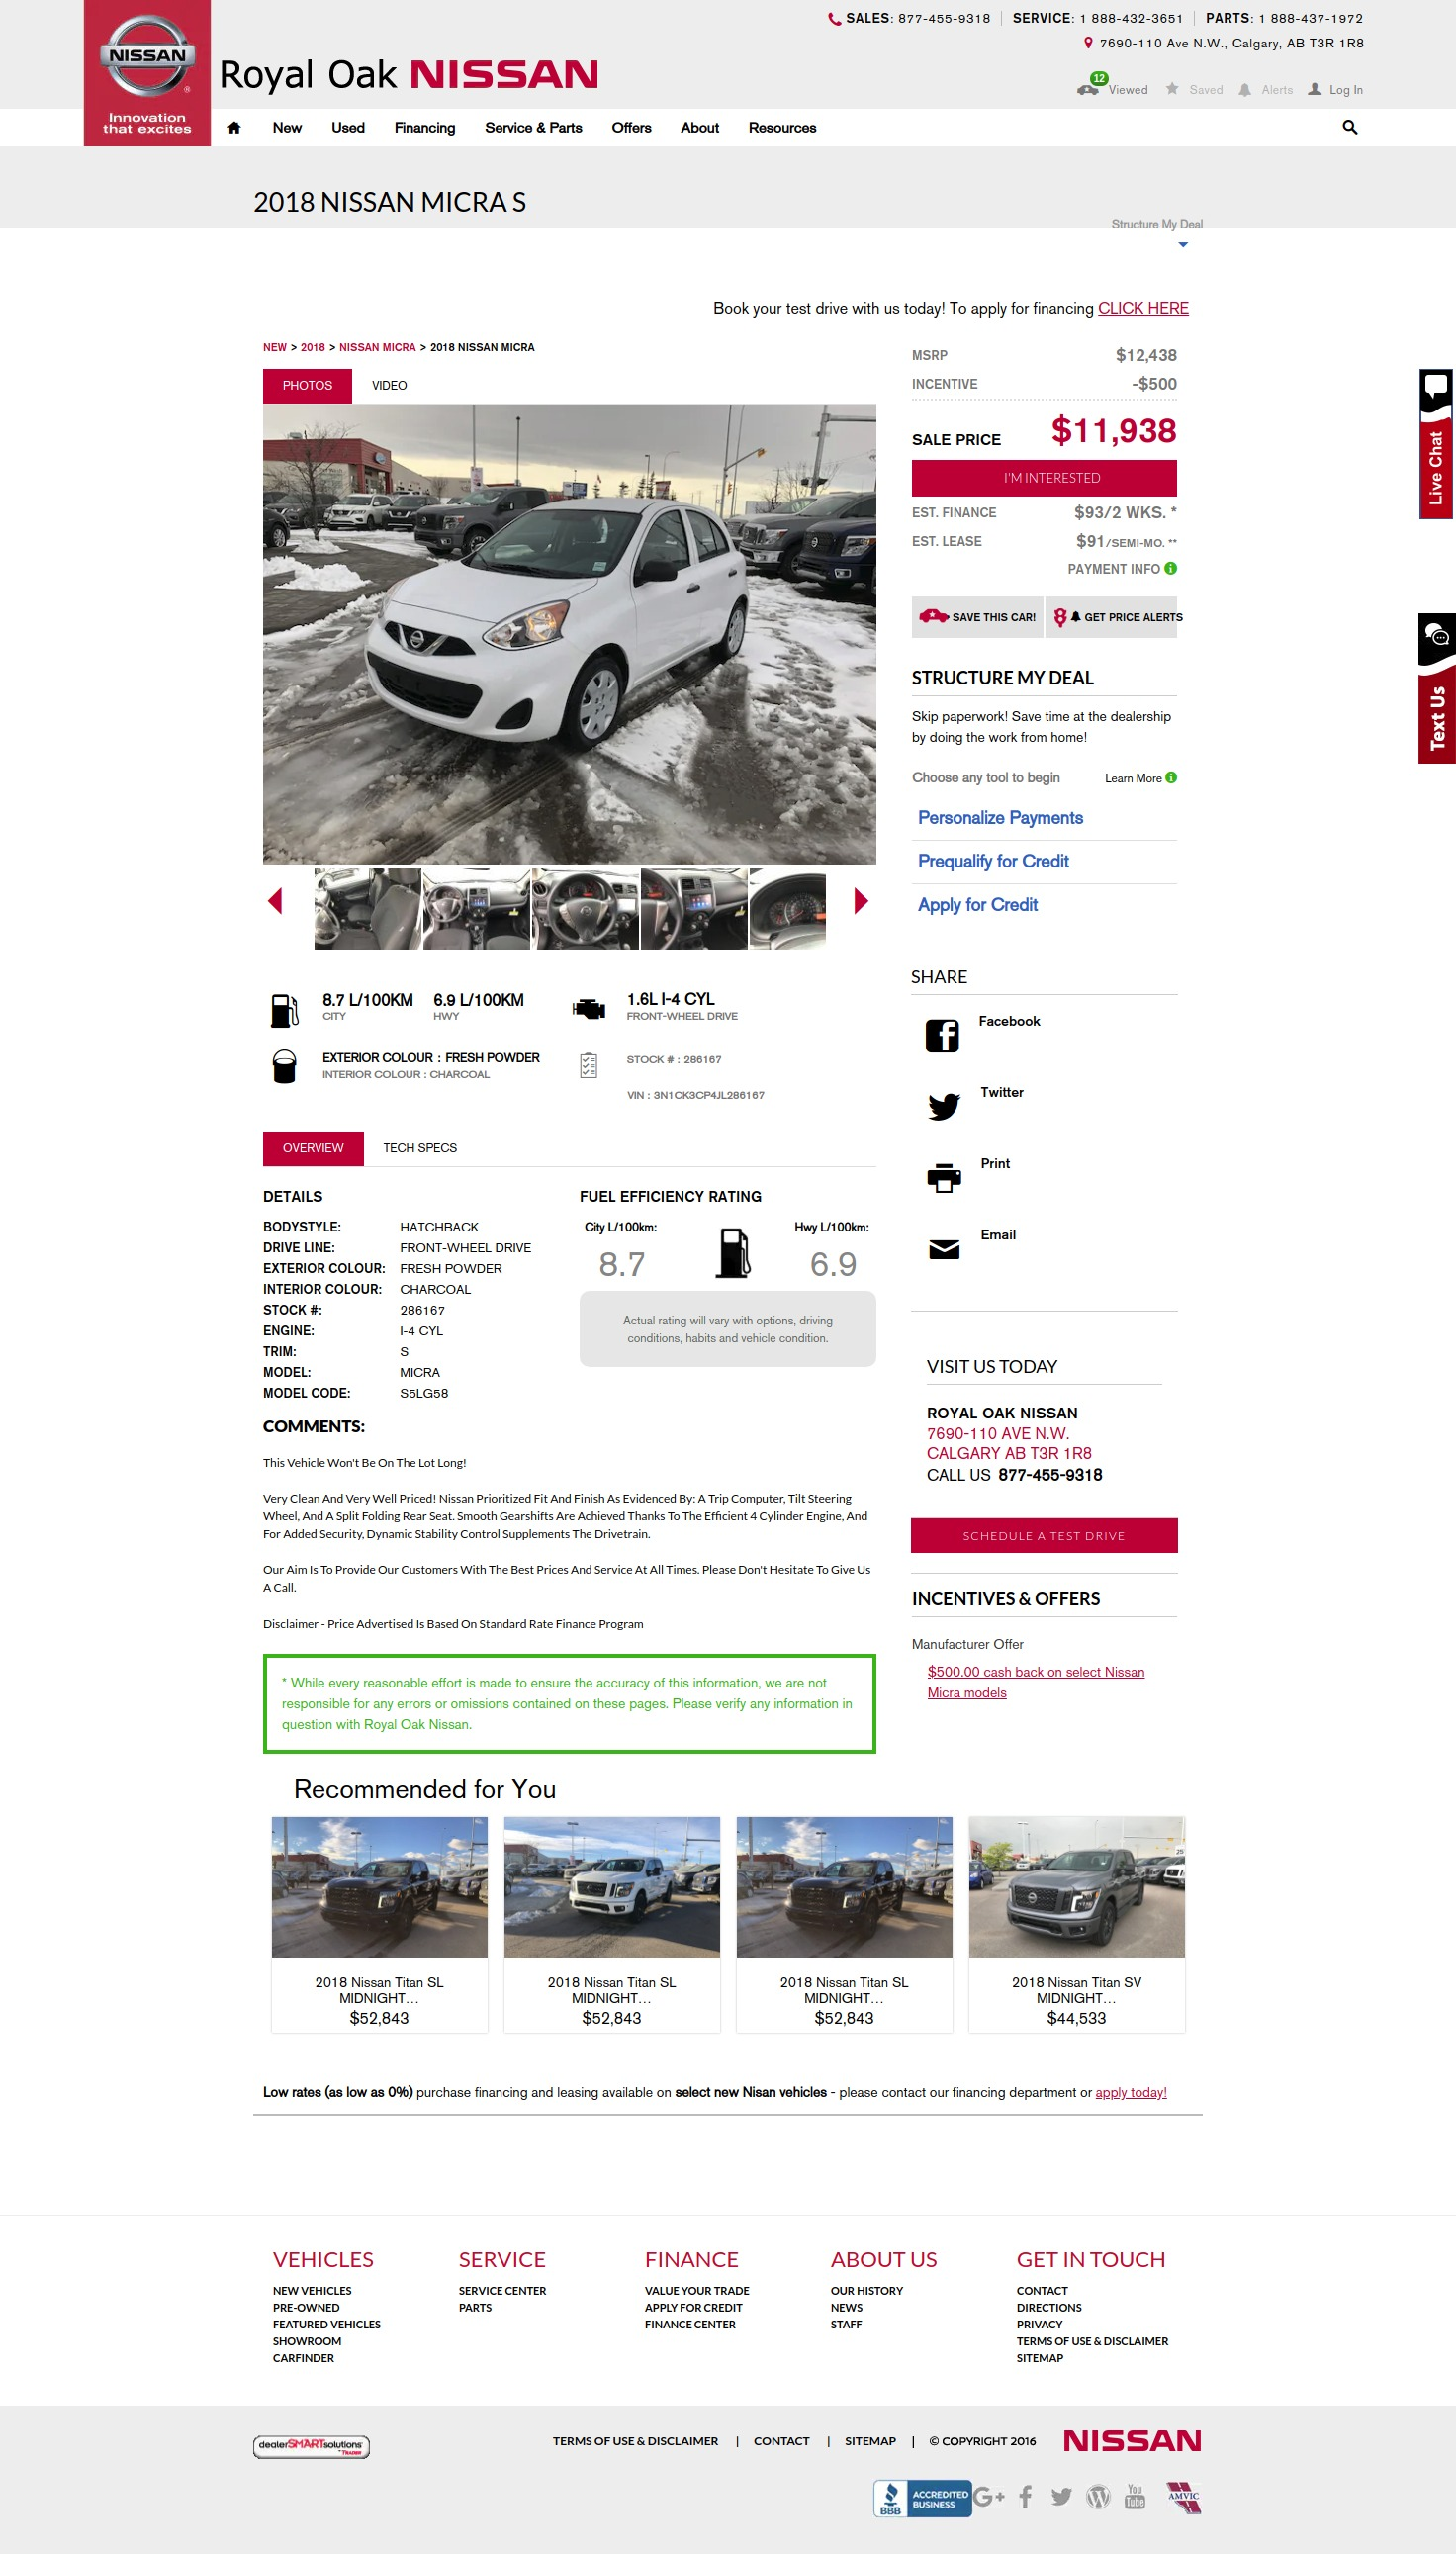car: (854, 888, 870, 917)
